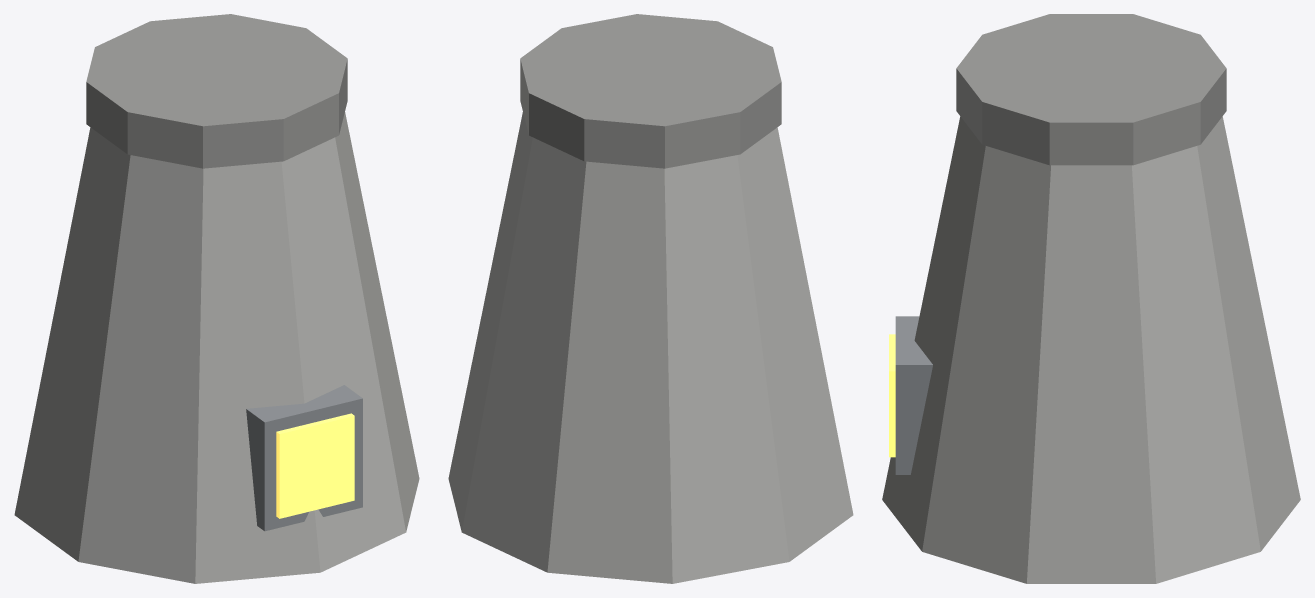
The model's file is furnace.glb.
3 renders of one model, left to right at view 1: azimuth 30°, elevation 25°; view 2: azimuth 150°, elevation 25°; view 3: azimuth 270°, elevation 25°, orthographic.
Visible parts, largest first — view 1: furnace; view 2: furnace; view 3: furnace.
Boxes of the visible parts, x1,y1,x2,y2 form: furnace: (14,14,419,583); furnace: (448,14,853,583); furnace: (882,14,1300,583).
Bounding box in the file's own units: 1.18 × 1.41 × 1.24.
